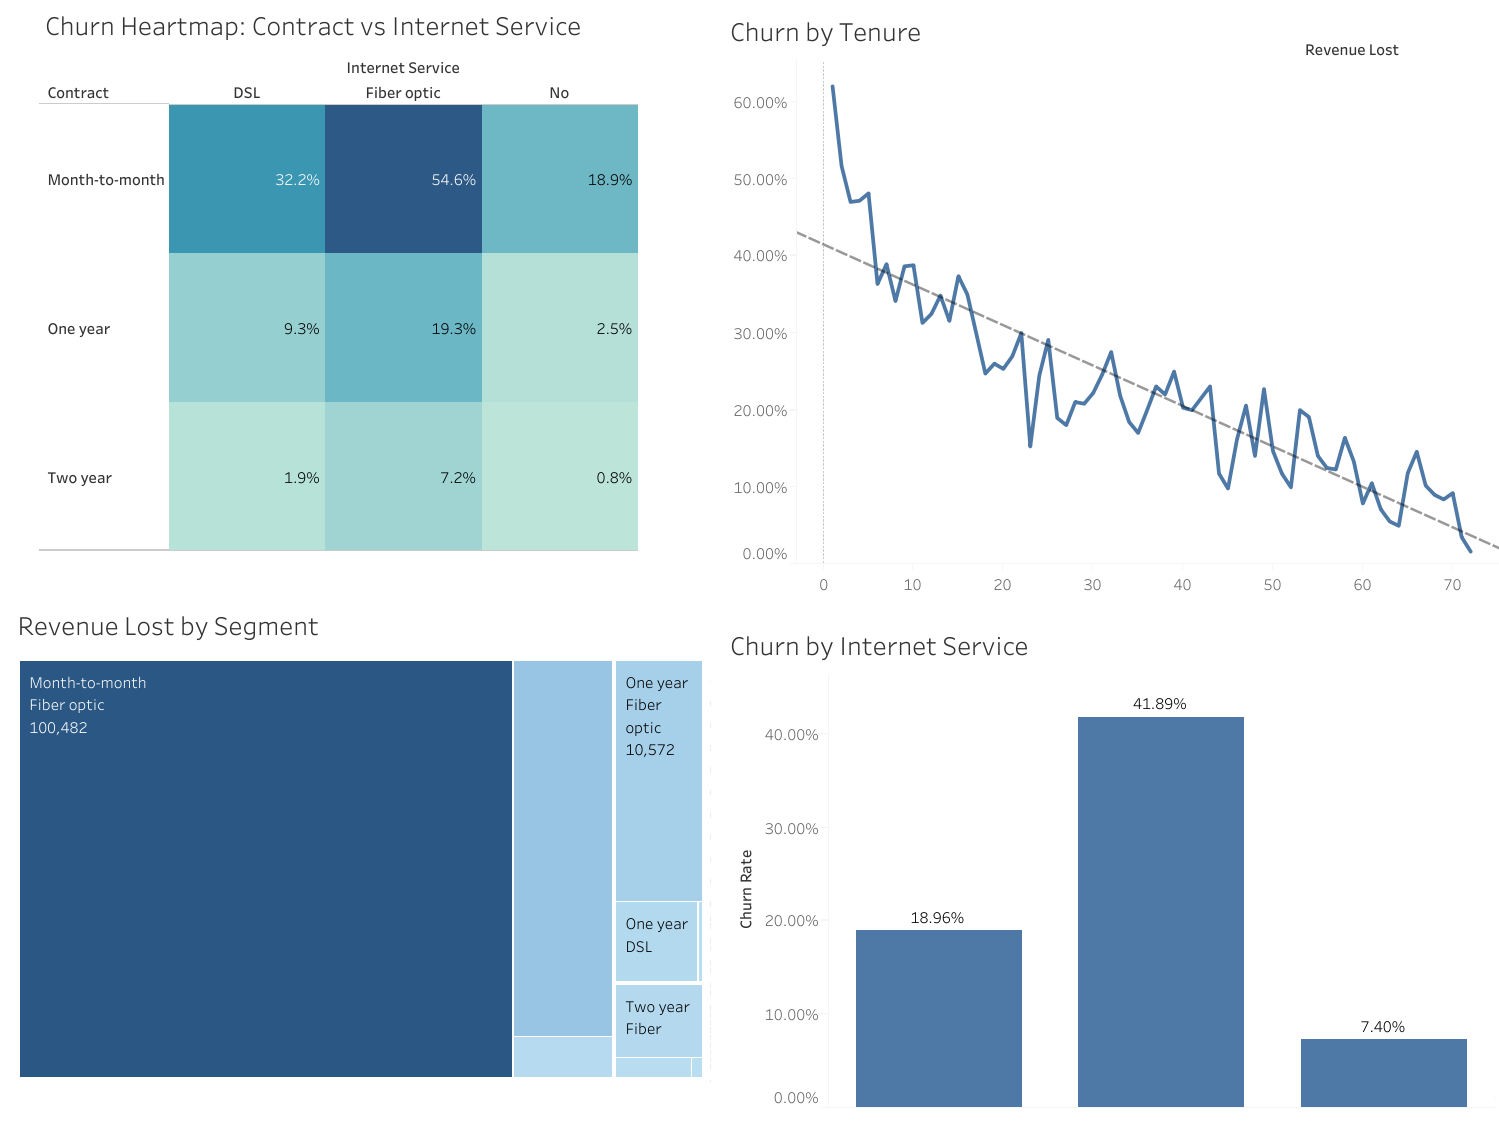

This screenshot's page, from the dashboard's own definition file:
{"tool":"tableau","page":{"name":"Dashboard 2","canvas":[1200,900],"ordinal":1},"visuals":[{"type":"worksheet","title":"Churn Heatmap:Contract vs Internet service","mark":"Square","rows":["contract"],"cols":["internet_service"],"box":[32,0,531,472]},{"type":"legend","title":"Revenue Lost by Segment","param":"[federated.0h6t1jp0qhqkco1dqiolx1twvwlb].[usr:Calculation_0014009274277894:qk]","box":[1040,0,160,22]},{"type":"worksheet","title":"Churn by Tenure","mark":"Automatic","rows":["Calculation_0014009273495556"],"cols":["tenure"],"box":[580,5,625,486]},{"type":"legend","title":"Revenue Lost by Segment","param":"[federated.0h6t1jp0qhqkco1dqiolx1twvwlb].[usr:Calculation_0014009274277894:qk]","box":[1040,22,160,68]},{"type":"worksheet","title":"Revenue Lost by Segment","mark":"Square","box":[10,480,557,417]},{"type":"worksheet","title":"Churn by Internet Service","mark":"Automatic","rows":["Calculation_0014009273495556"],"cols":["internet_service"],"box":[580,496,615,390]}]}

Visuals, with their boxes in screenshot pixels (x1, y1, x2, y2), scaled from the page's 1200x900 canvas onto the 1499x1124 screenshot:
"Churn Heatmap:Contract vs Internet service" worksheet (Square marks): left=40, top=0, right=703, bottom=589
"Revenue Lost by Segment" legend: left=1299, top=0, right=1498, bottom=27
"Churn by Tenure" worksheet: left=725, top=6, right=1498, bottom=613
"Revenue Lost by Segment" legend: left=1299, top=27, right=1498, bottom=112
"Revenue Lost by Segment" worksheet (Square marks): left=12, top=599, right=708, bottom=1120
"Churn by Internet Service" worksheet: left=725, top=619, right=1493, bottom=1107
